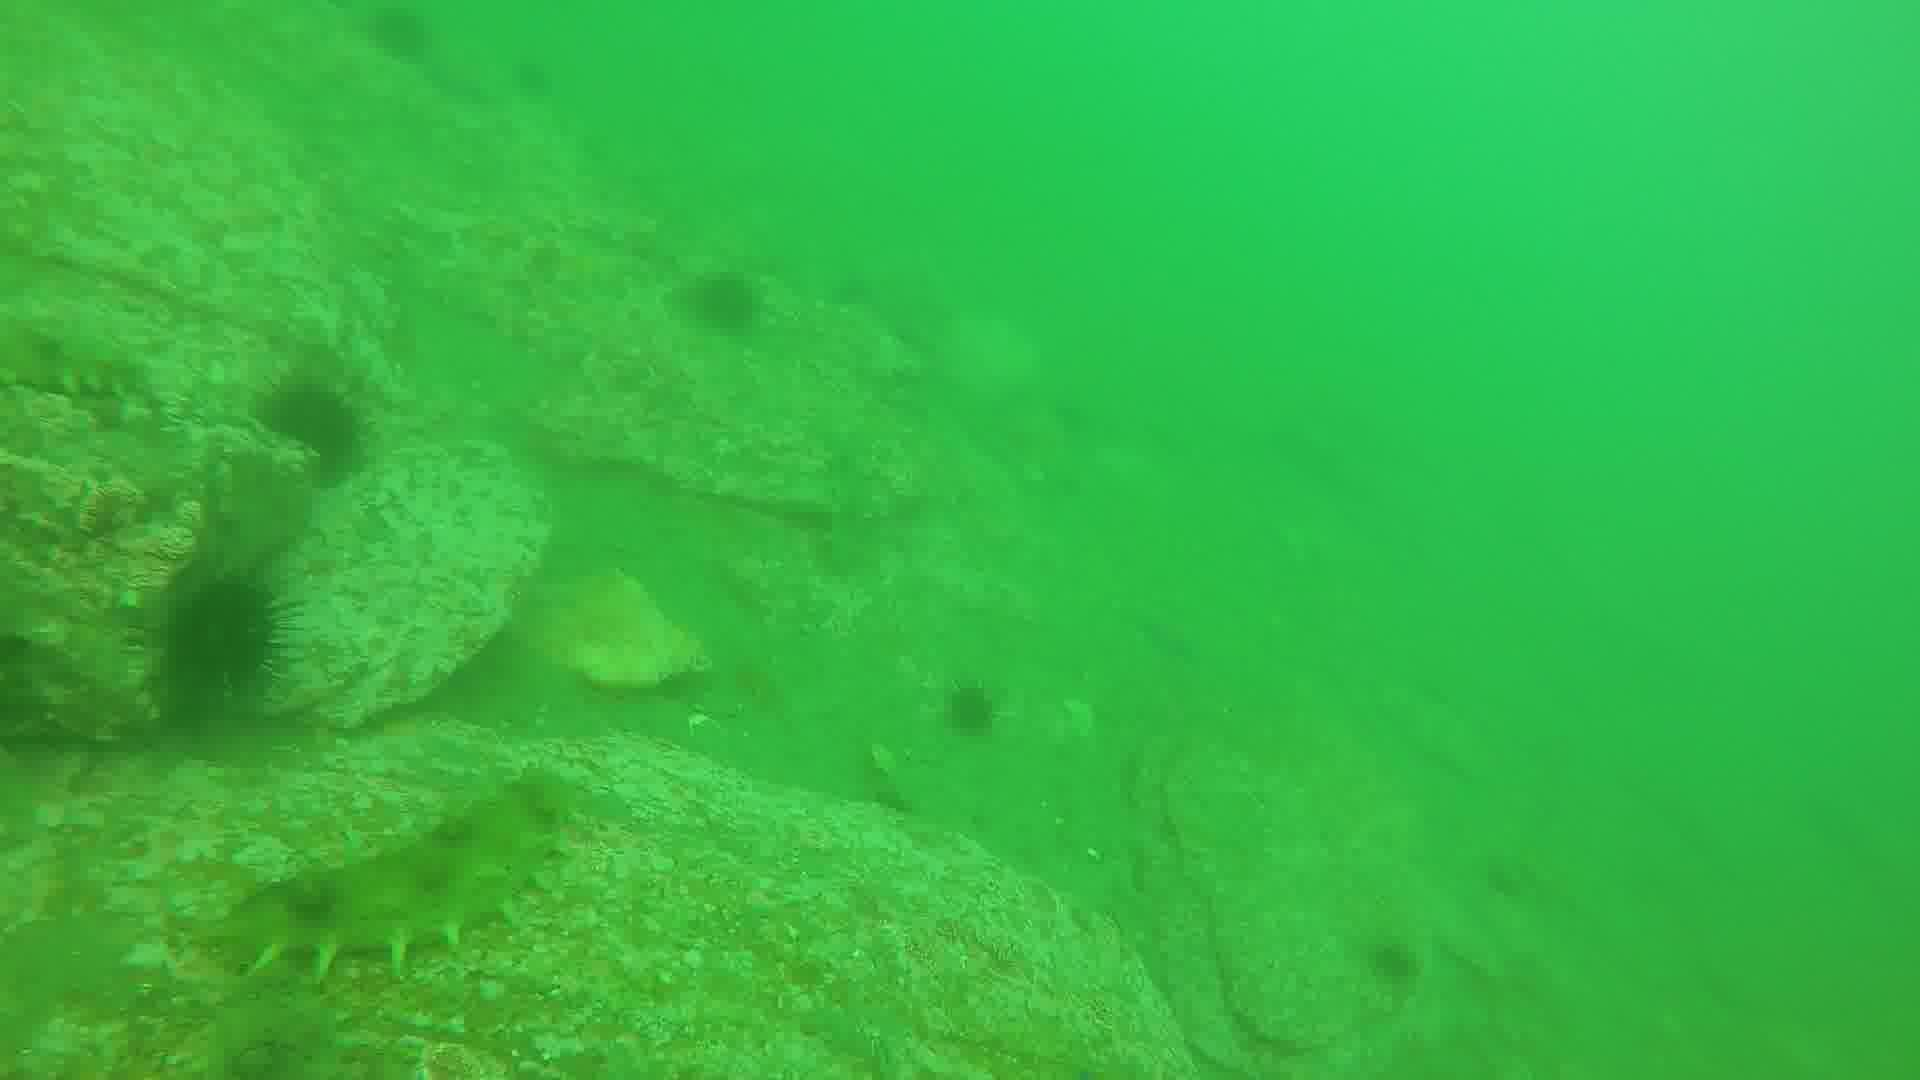echinus: (161, 567, 284, 698), (264, 377, 356, 485), (684, 276, 748, 343), (942, 674, 993, 742), (1366, 942, 1418, 986)
holothurian: (218, 770, 587, 988), (1, 315, 142, 405)
